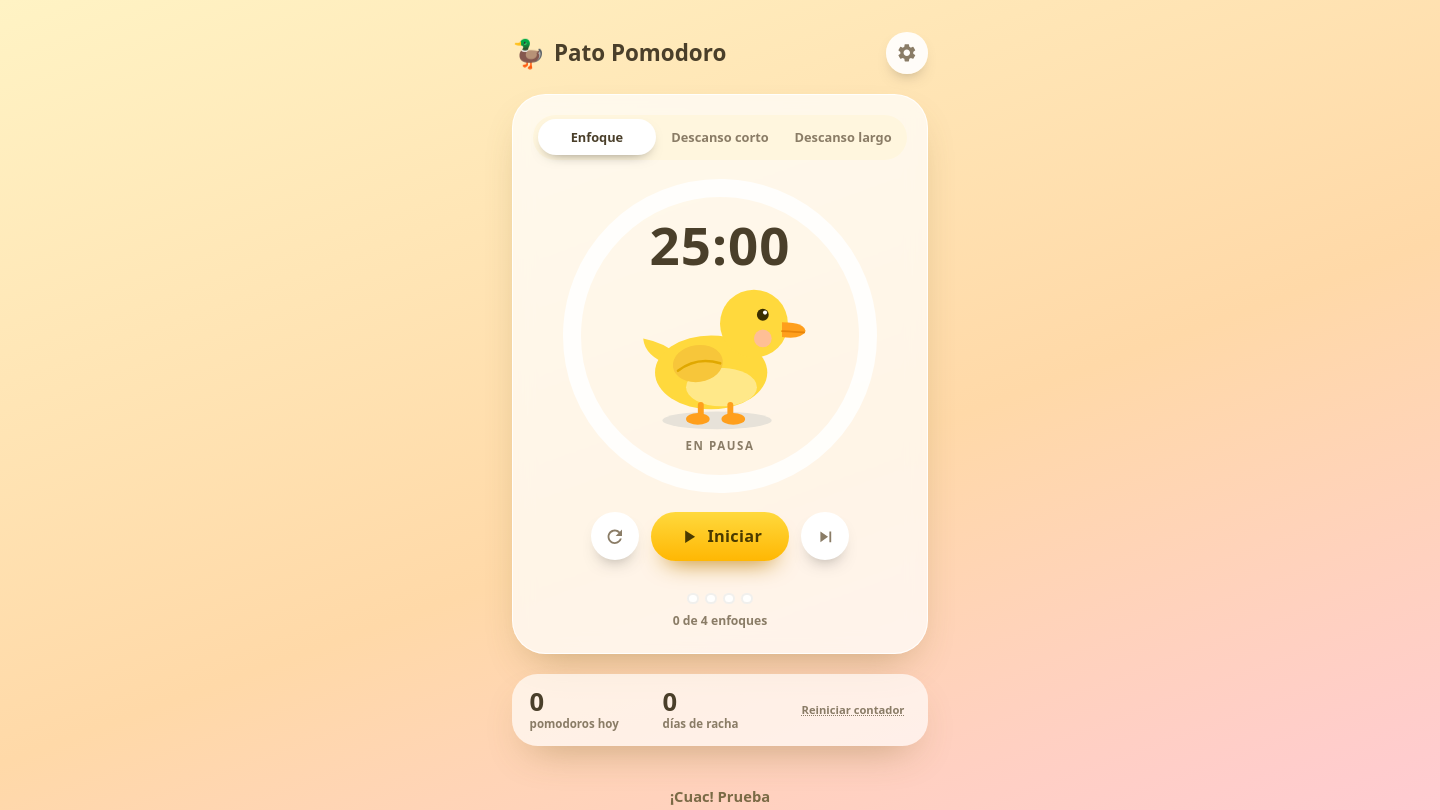
Scenario: App › arranca y pausa con el botón principal
Expected: the text "¡Cuac! Prueba" is shown, [670,786,770,806]
What coordinates should you click on to do the following:
click the button with aria-label "iniciar el tiempo"
I would click on:
 (720, 536)
Its box is [651,512,789,561].
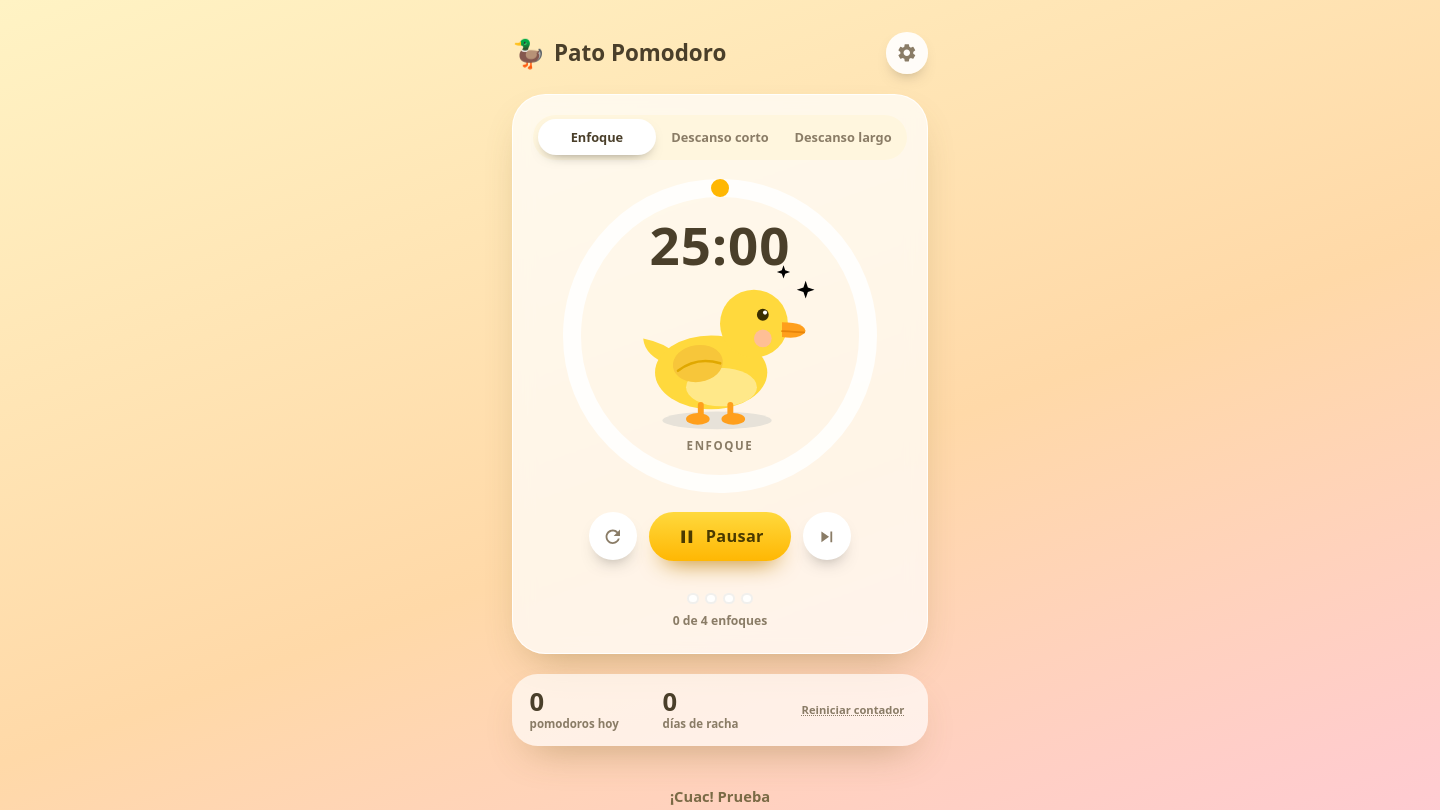
Result: the picture named "trabajando" is shown at [624,270,816,432]
What coordinates should you click on to do the following:
click the button with aria-label "pausar el tiempo"
I would click on:
 (720, 536)
Its box is [649,512,791,561].
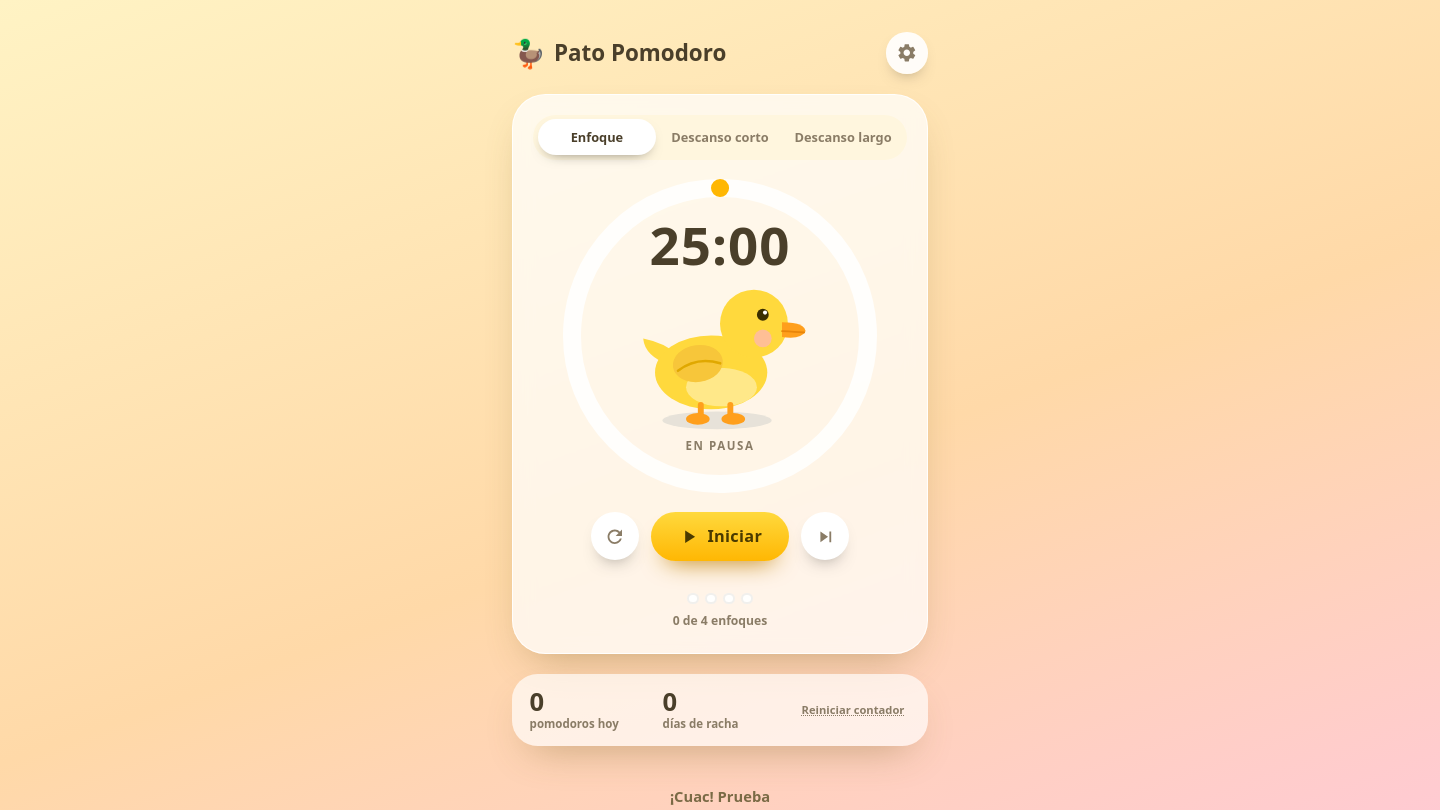
Result: the picture named "esperando" is shown at [624,270,816,432]
